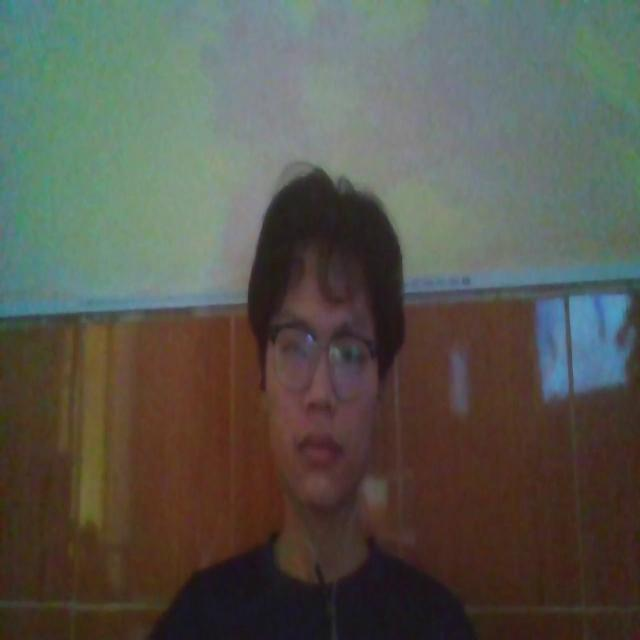student: (140, 146, 486, 640)
